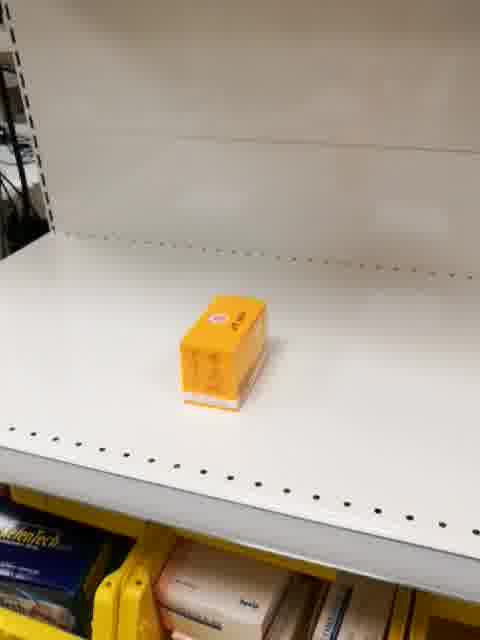jasminetea: (180, 294, 266, 414)
